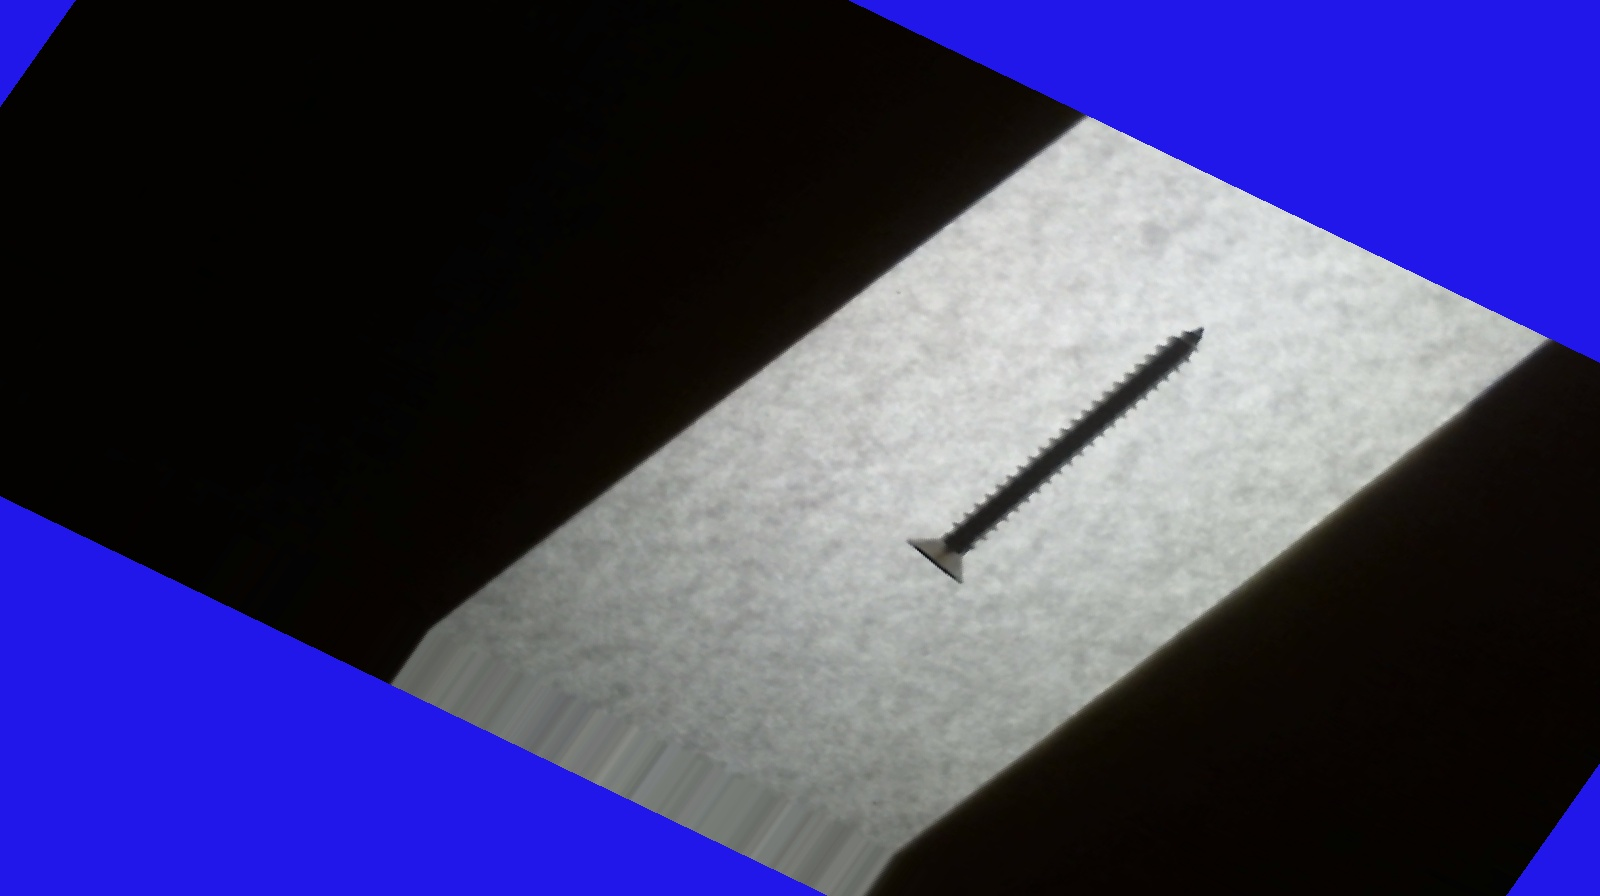S002: (863, 248, 1284, 657)
